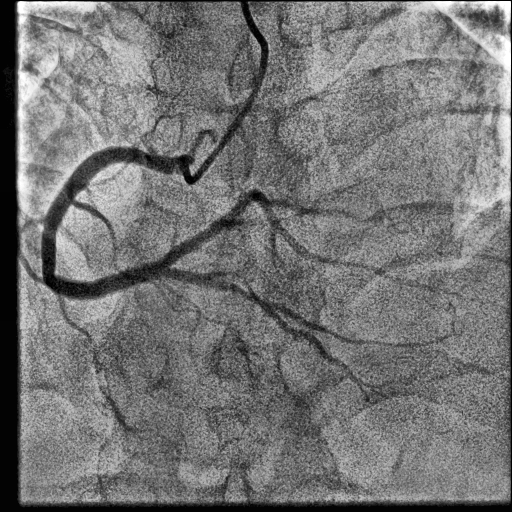pborca: (161, 190, 387, 279)
pda: (167, 268, 369, 400)
rca: (41, 147, 176, 299)
